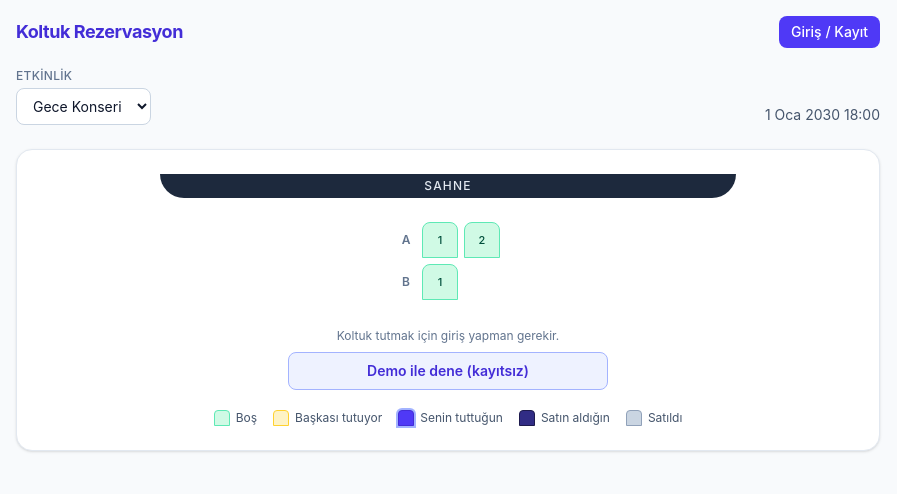
Test: koltuk tutma ve onaylama akışı › giriş yapmadan koltuğa tıklayınca giriş ekranına yönlendirir, istek atmaz
The image size is (897, 494).
Click the button named "A1, boş". click: [440, 240]
box: [422,222,458,258]
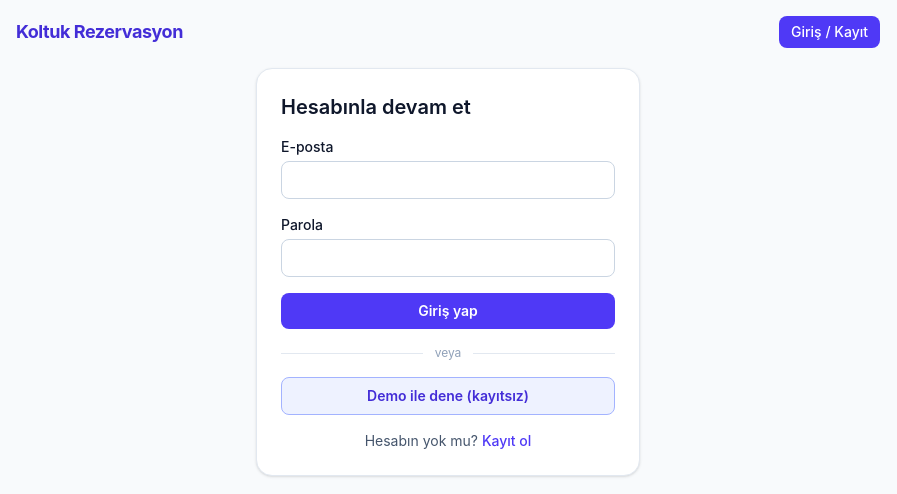
Result: the form named "Giriş formu" is shown at [281,137,615,451]
